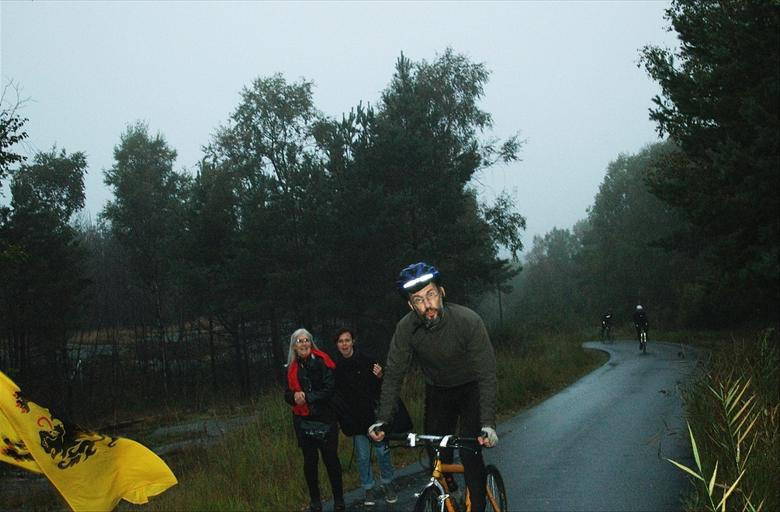non-vehicle: (366, 421, 510, 511), (598, 322, 620, 347), (633, 323, 651, 353)
